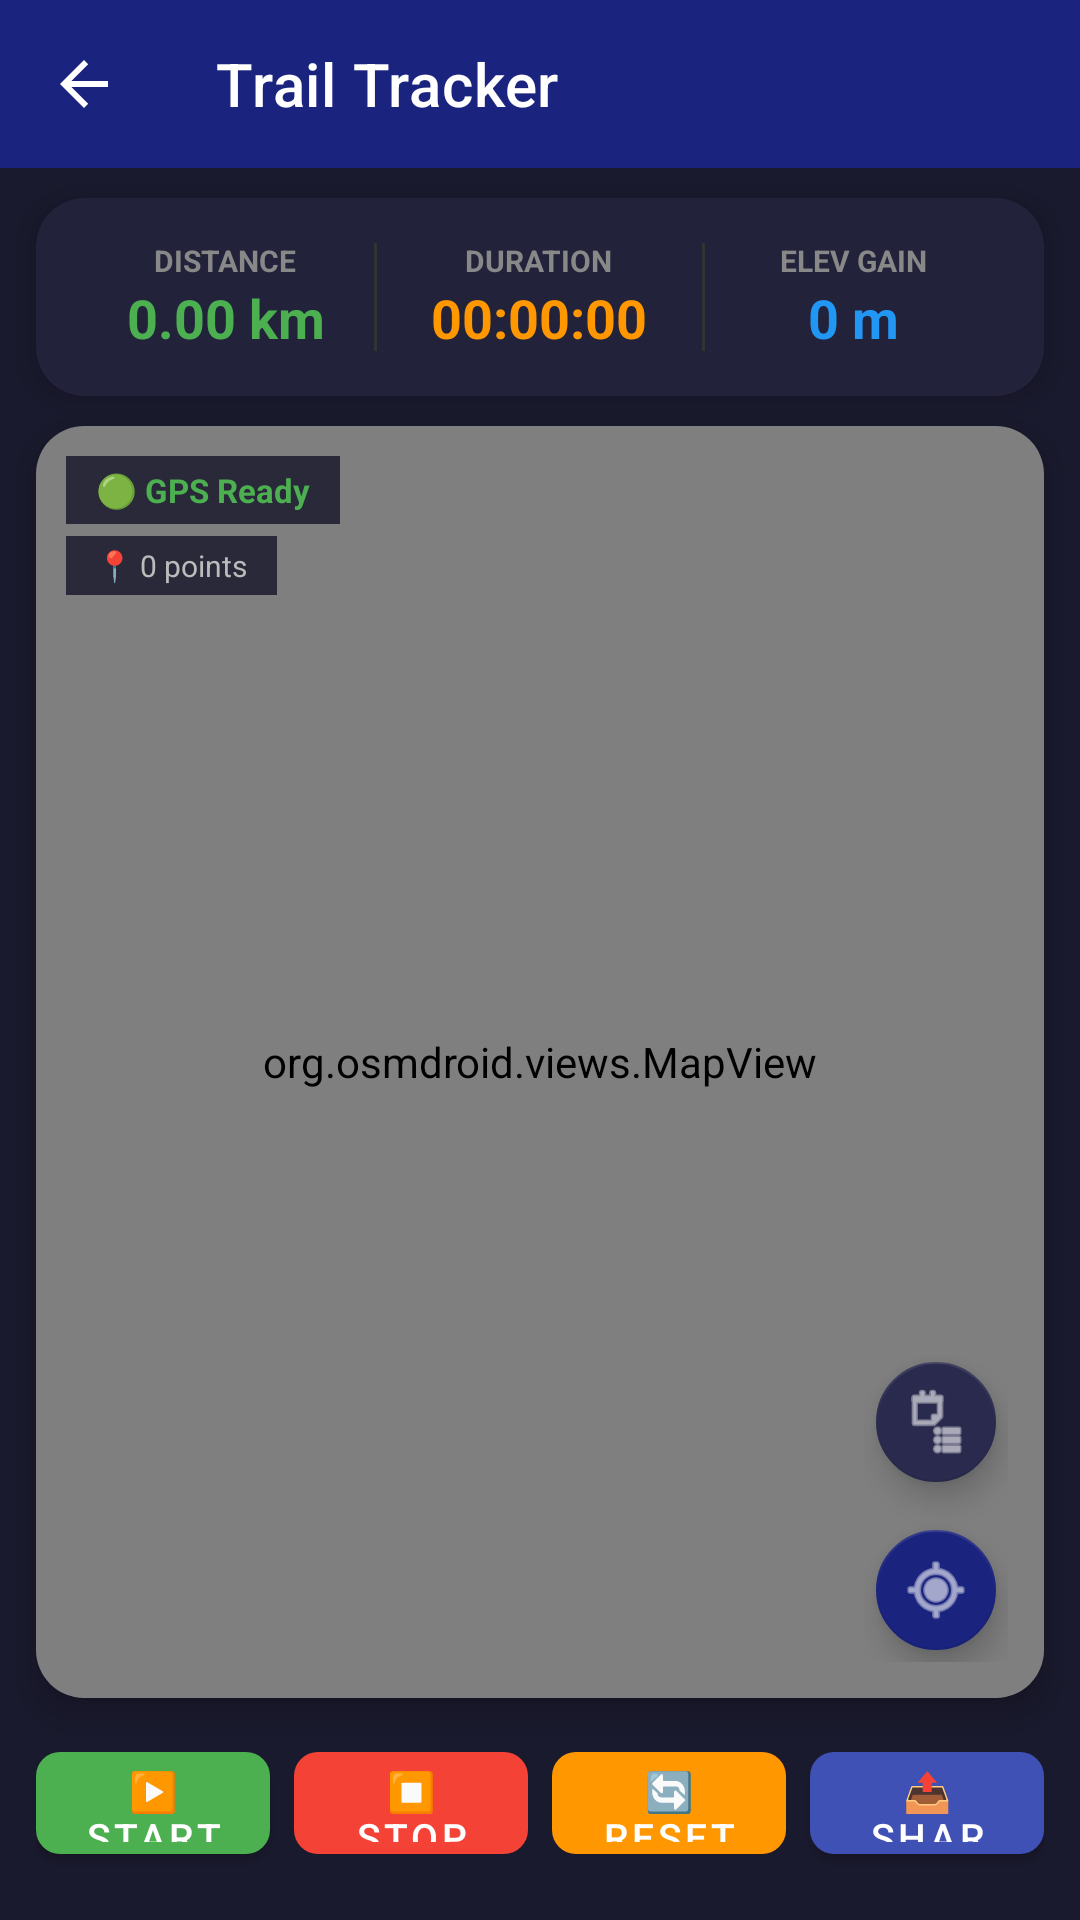

Icon bounding boxes for this 1080×1920 phone screenshot, format (x1=x1, y1=y1, x2=x2, y2=y2):
My Location: (x1=876, y1=1530, x2=996, y2=1650)
